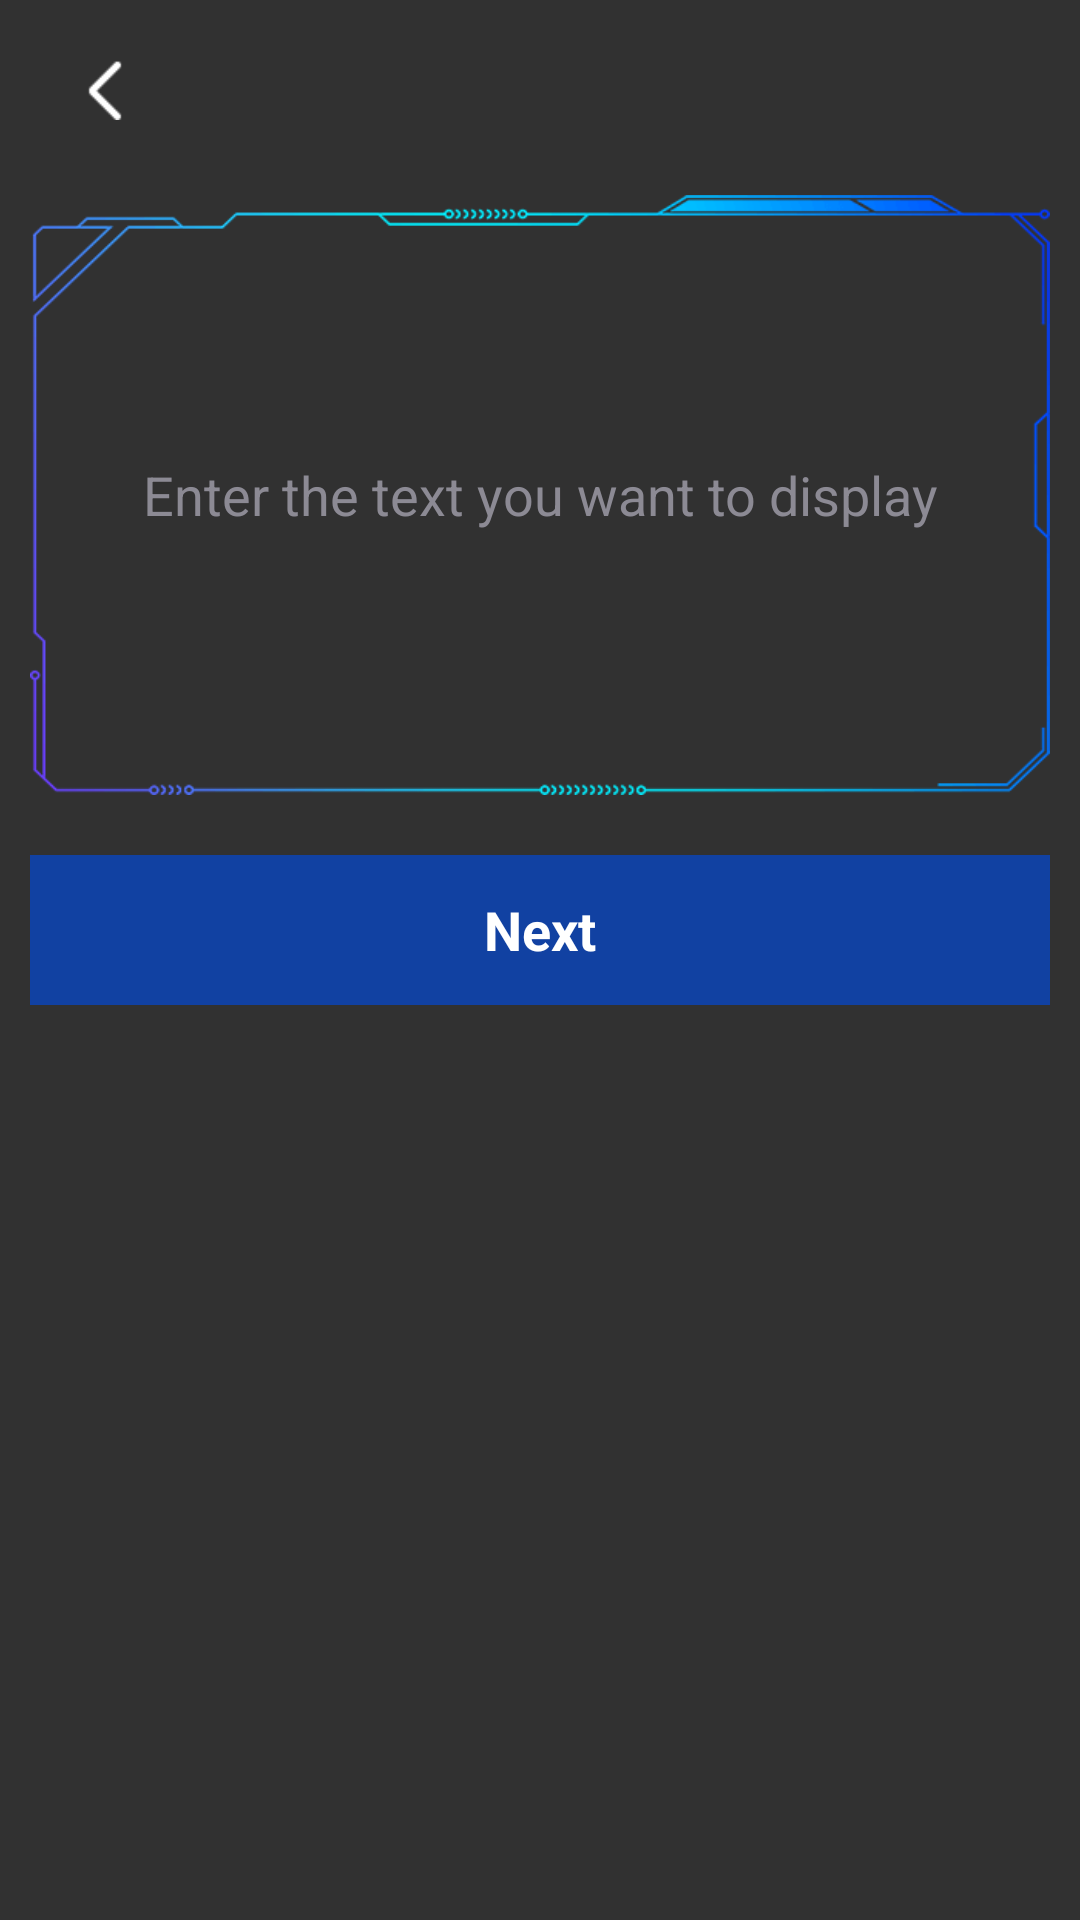

Named icons in this screenshot (1080 x 1920) and their bounding boxes, (left=x1, top=y1, right=x2, bottom=y2):
back: (left=88, top=61, right=122, bottom=120)
